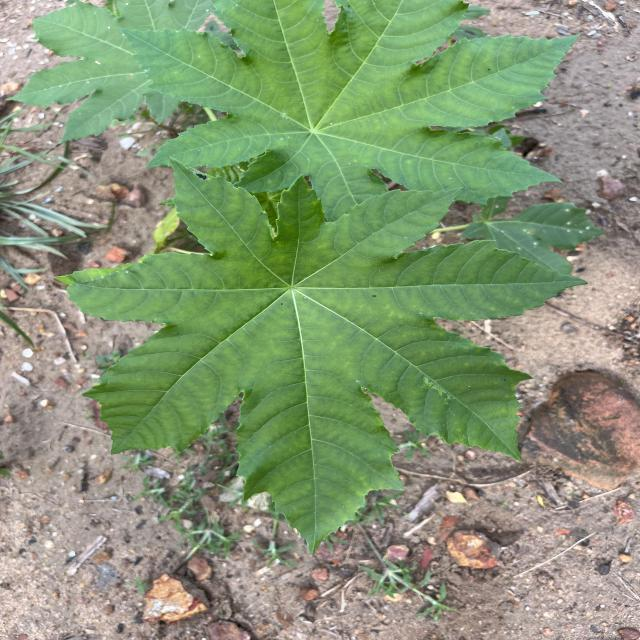Ricinus communis linn: (47, 152, 593, 562), (109, 0, 584, 236)
